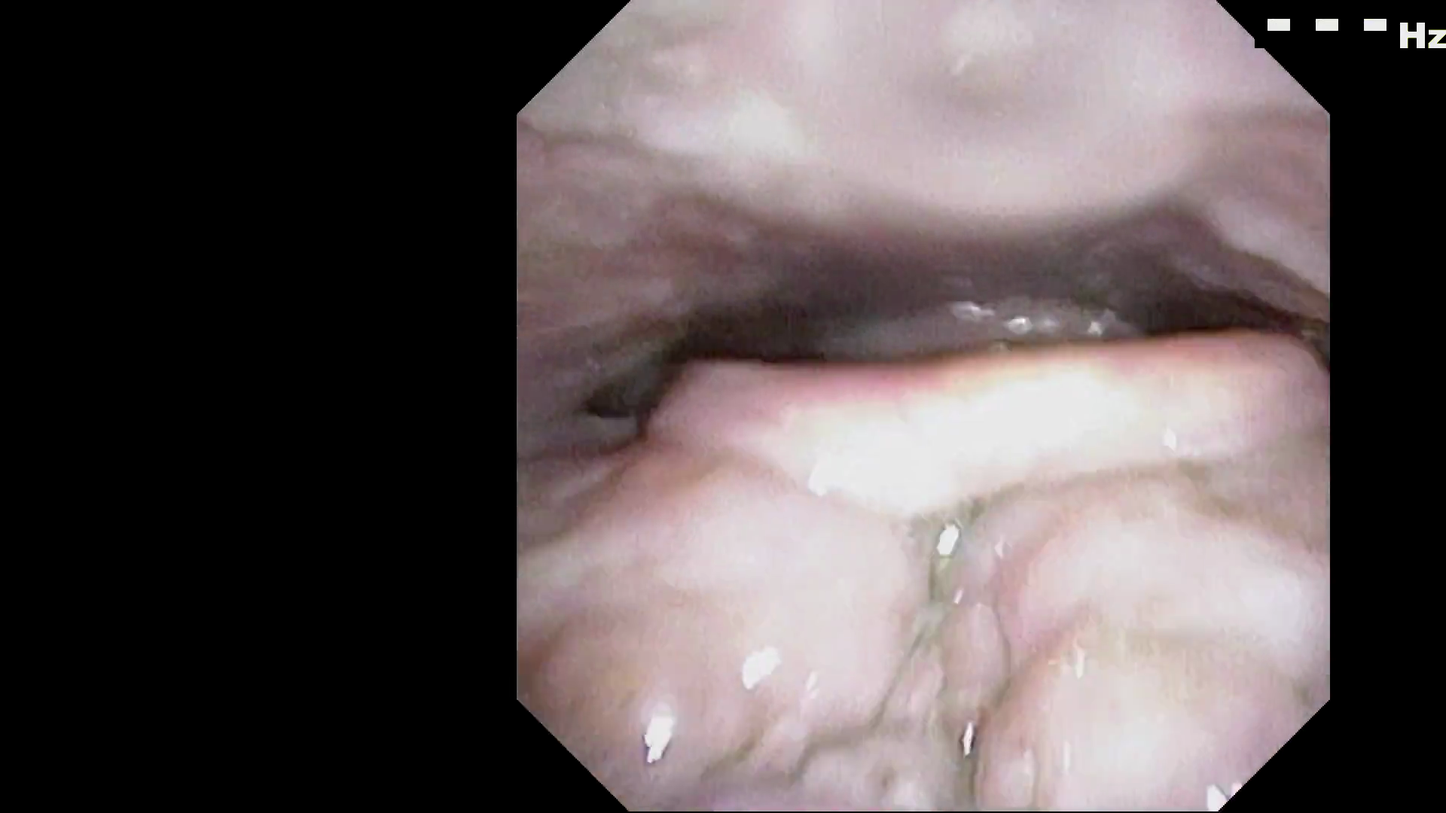epiglottis: (702, 383, 1251, 550)
